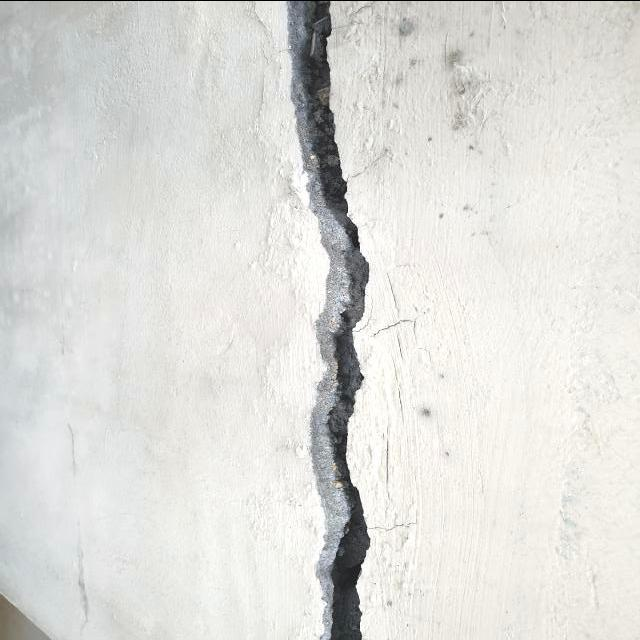SurfaceCrack: (260, 0, 414, 639)
